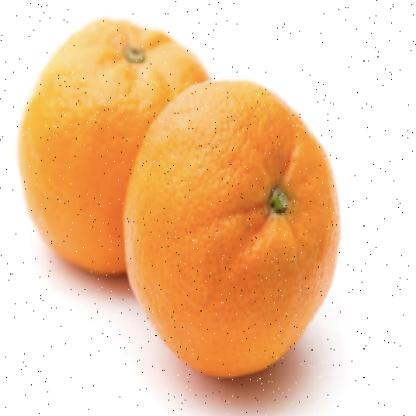fresh: (19, 18, 342, 382)
